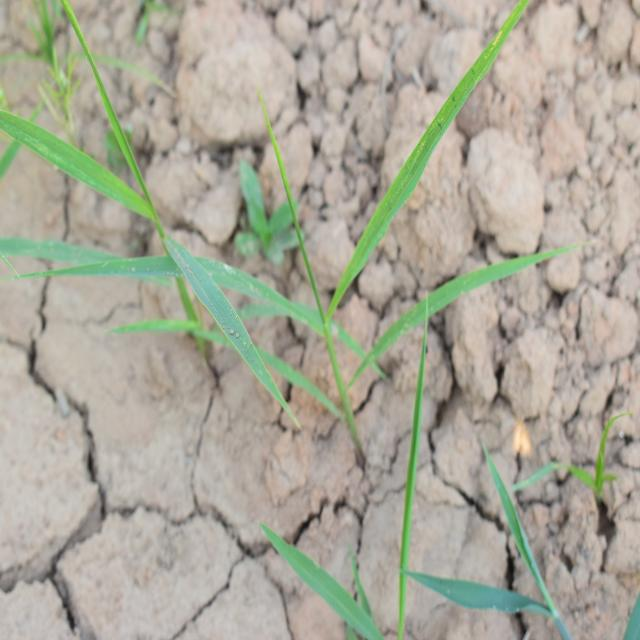green_foxtail: (233, 19, 509, 397), (12, 41, 266, 386)
